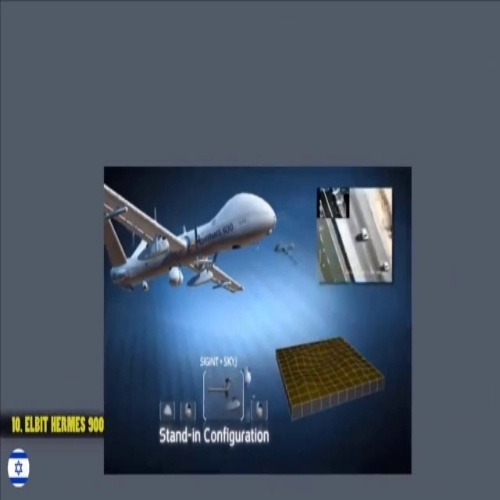uav: (103, 168, 277, 302)
